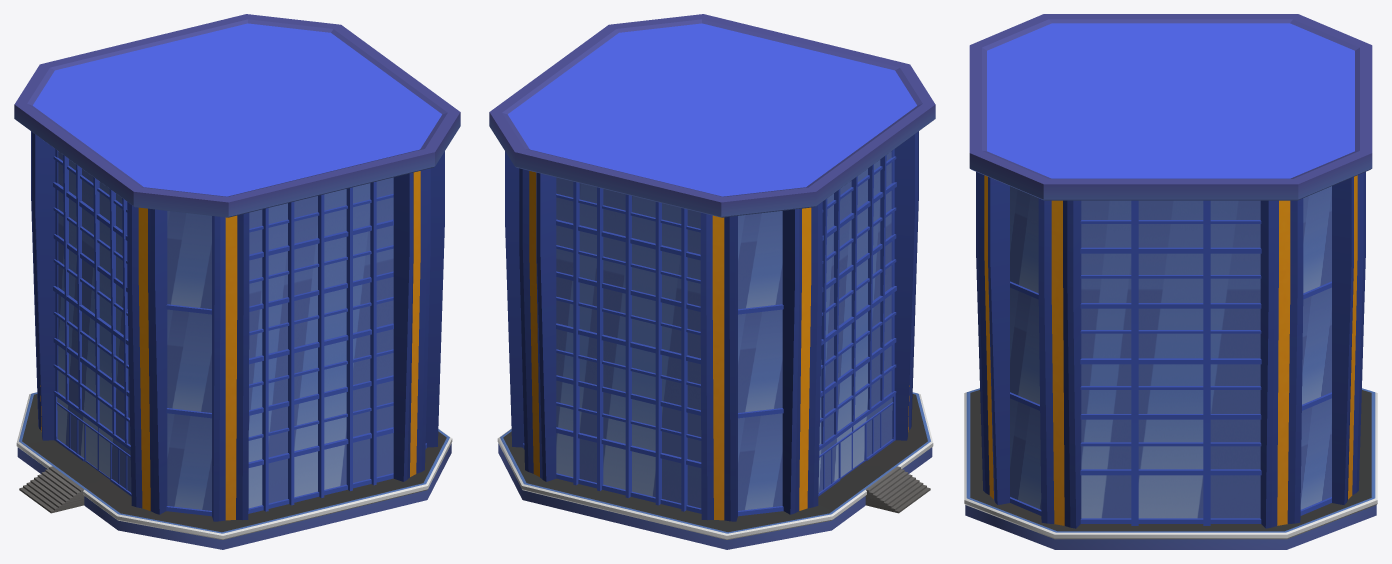
Rendered from Building_7_3_A.glb.
3 renders of one model, left to right at view 1: azimuth 30°, elevation 25°; view 2: azimuth 150°, elevation 25°; view 3: azimuth 270°, elevation 25°, orthographic. The views are drawn at different scales.
Visible parts, largest first — view 1: Building_7_3_A; view 2: Building_7_3_A; view 3: Building_7_3_A.
Boxes of the visible parts, x1,y1,x2,y2 form: Building_7_3_A: (14,14,460,549); Building_7_3_A: (489,14,935,549); Building_7_3_A: (964,14,1377,549).
Bounding box in the file's own units: 25.2 × 22.67 × 23.11.
Materials: 4 (4 with a texture image).
